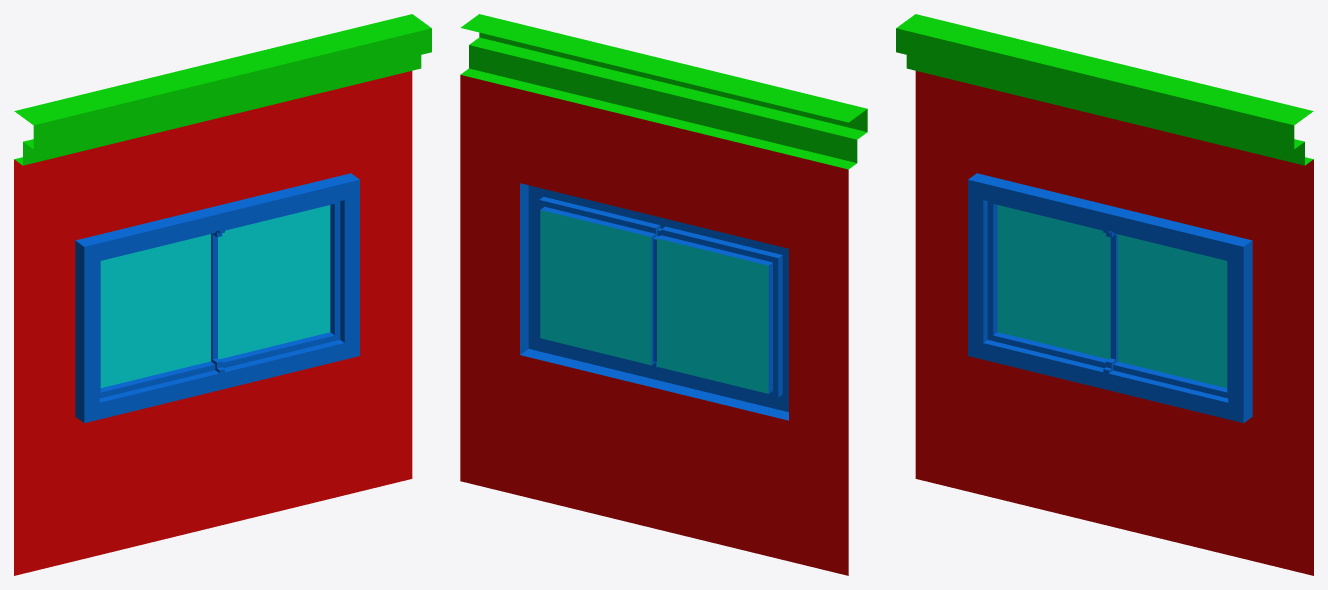
The model's file is Double_Window.fbx.
The picture shows the model from 3 angles, left to right: view 1: azimuth 30°, elevation 25°; view 2: azimuth 150°, elevation 25°; view 3: azimuth 330°, elevation 25°; orthographic projection. The views are drawn at different scales.
Parts seen in each view (by area): view 1: Build_1_Wall_Double_Window; view 2: Build_1_Wall_Double_Window; view 3: Build_1_Wall_Double_Window.
Boxes of the visible parts, <box> form: Build_1_Wall_Double_Window: <box>14,14,431,575</box>; Build_1_Wall_Double_Window: <box>460,14,867,575</box>; Build_1_Wall_Double_Window: <box>896,14,1313,575</box>.
Size of the model in its own units: 260 by 22 by 290.
